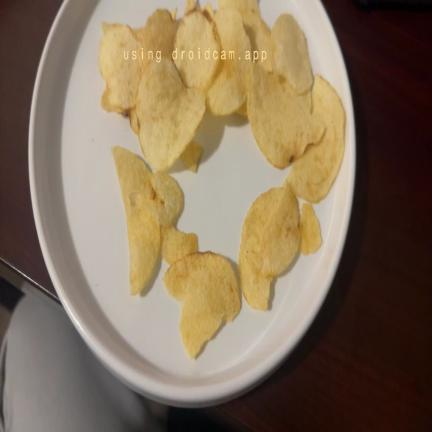chips: (164, 253, 240, 358), (248, 66, 323, 168), (239, 185, 300, 310), (137, 59, 205, 170), (288, 76, 345, 202), (112, 147, 160, 295), (112, 147, 183, 226), (242, 185, 300, 275), (207, 9, 251, 115), (99, 24, 144, 112), (174, 10, 220, 91), (272, 14, 312, 94), (135, 9, 175, 67), (239, 246, 273, 310), (143, 173, 183, 226), (241, 9, 272, 71), (161, 227, 197, 264), (280, 77, 312, 113), (300, 204, 321, 254), (181, 141, 202, 172), (219, 0, 258, 10), (128, 108, 139, 134), (184, 0, 196, 16), (203, 2, 214, 19), (237, 102, 248, 117), (172, 8, 177, 21)
plate: (30, 0, 355, 406)
